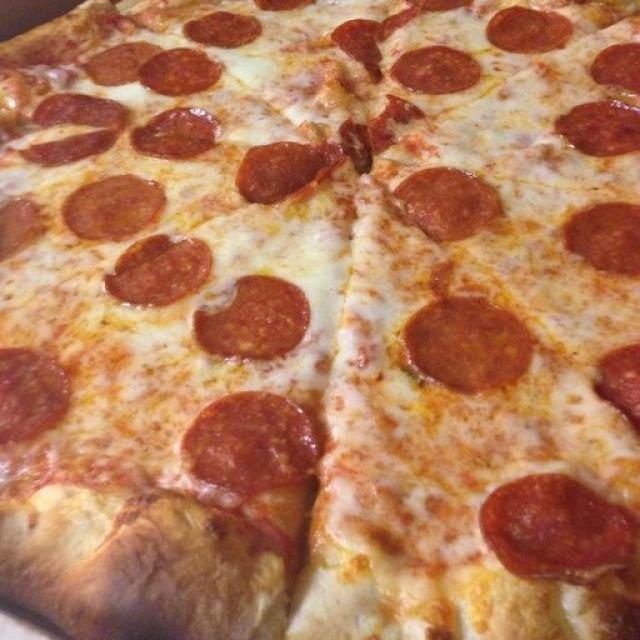Pepperoni: (486, 478, 637, 577), (186, 392, 322, 484), (410, 296, 527, 383), (196, 282, 303, 358), (0, 348, 77, 442), (110, 234, 205, 307), (399, 168, 500, 236), (31, 92, 126, 160), (82, 49, 222, 92), (64, 175, 164, 230), (569, 201, 640, 276), (244, 139, 321, 197), (554, 103, 640, 153), (136, 111, 212, 164), (392, 51, 482, 95), (490, 9, 570, 55), (335, 18, 385, 77), (0, 200, 45, 258), (188, 10, 254, 45), (593, 43, 640, 90), (254, 0, 312, 14)
